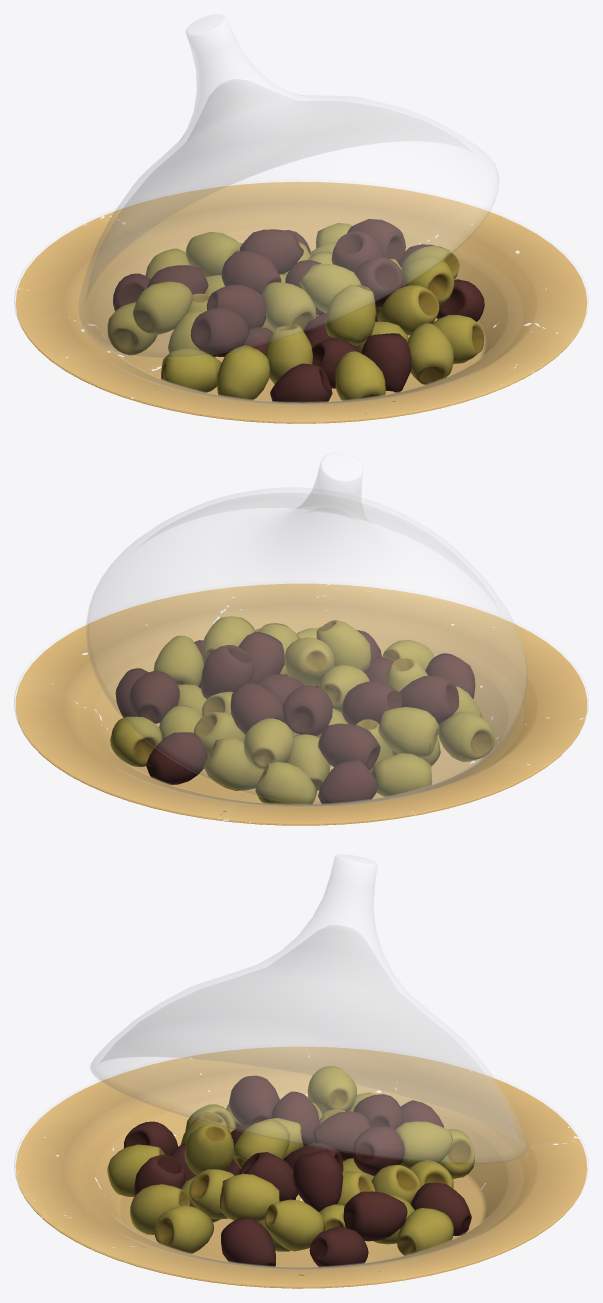
Rendered from IridescentDishWithOlives-m.glb.
3 views of the same model, one above another, from view 1: azimuth 30°, elevation 25°; view 2: azimuth 150°, elevation 25°; view 3: azimuth 270°, elevation 25° (orthographic).
Visible parts, largest first — view 1: glassCover, goldLeaf, glassDish, olives; view 2: glassCover, glassDish, goldLeaf, olives; view 3: glassCover, goldLeaf, olives, glassDish.
Part boxes in pixels (x1,y1,x2,y2): glassCover: (78, 14, 499, 358); goldLeaf: (15, 181, 587, 423); glassDish: (14, 179, 588, 422); olives: (107, 219, 484, 402); glassCover: (86, 452, 527, 805); glassDish: (14, 581, 588, 824); goldLeaf: (15, 583, 587, 825); olives: (110, 616, 494, 804); glassCover: (90, 854, 527, 1164); goldLeaf: (15, 1047, 587, 1288); olives: (107, 1066, 474, 1267); glassDish: (14, 1057, 588, 1287).
Size of the model in its own units: 0.4593 by 0.2855 by 0.4593.
4 materials, 2 textured.
